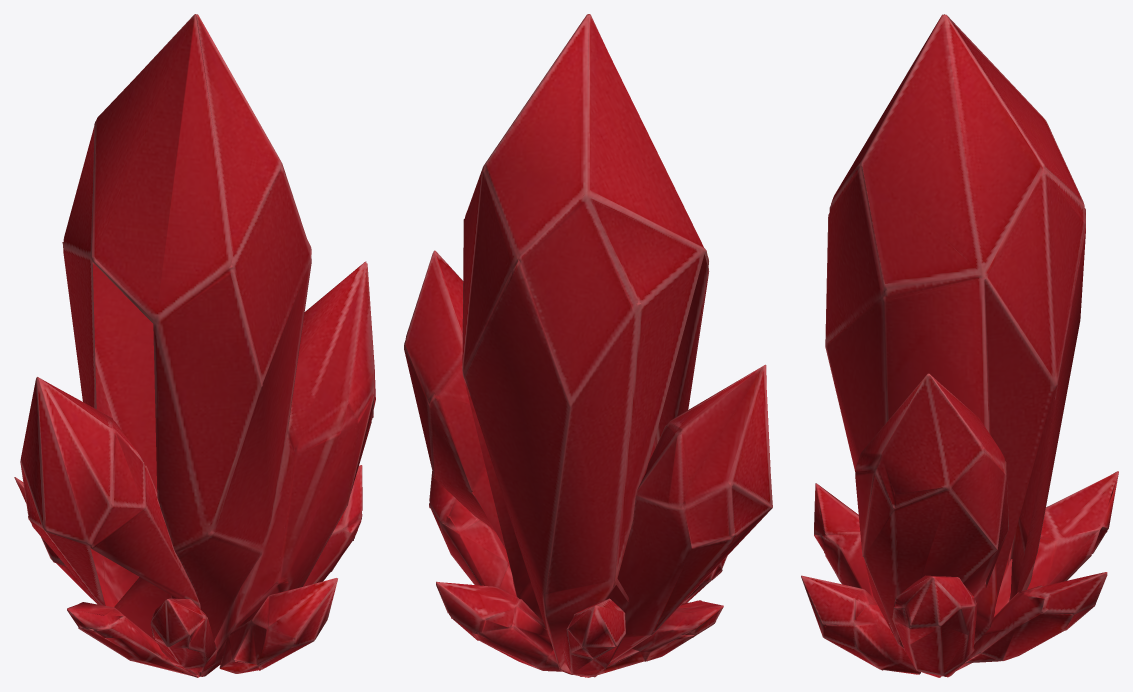
File: red+crystal+3d+model.glb
The picture shows the model from 3 angles, left to right: view 1: azimuth 30°, elevation 25°; view 2: azimuth 150°, elevation 25°; view 3: azimuth 270°, elevation 25°; orthographic projection.
Visible parts, largest first — view 1: tripo_node_f809bbb5-3570-4992-881d-61aef79806cd; view 2: tripo_node_f809bbb5-3570-4992-881d-61aef79806cd; view 3: tripo_node_f809bbb5-3570-4992-881d-61aef79806cd.
Boxes of the visible parts, left/top/right/bottom form: tripo_node_f809bbb5-3570-4992-881d-61aef79806cd: left=14, top=14, right=375, bottom=677; tripo_node_f809bbb5-3570-4992-881d-61aef79806cd: left=404, top=14, right=772, bottom=677; tripo_node_f809bbb5-3570-4992-881d-61aef79806cd: left=801, top=14, right=1118, bottom=677.
Size of the model in its own units: 0.5371 by 0.998 by 0.4355.
Materials: 1 (1 with a texture image).
